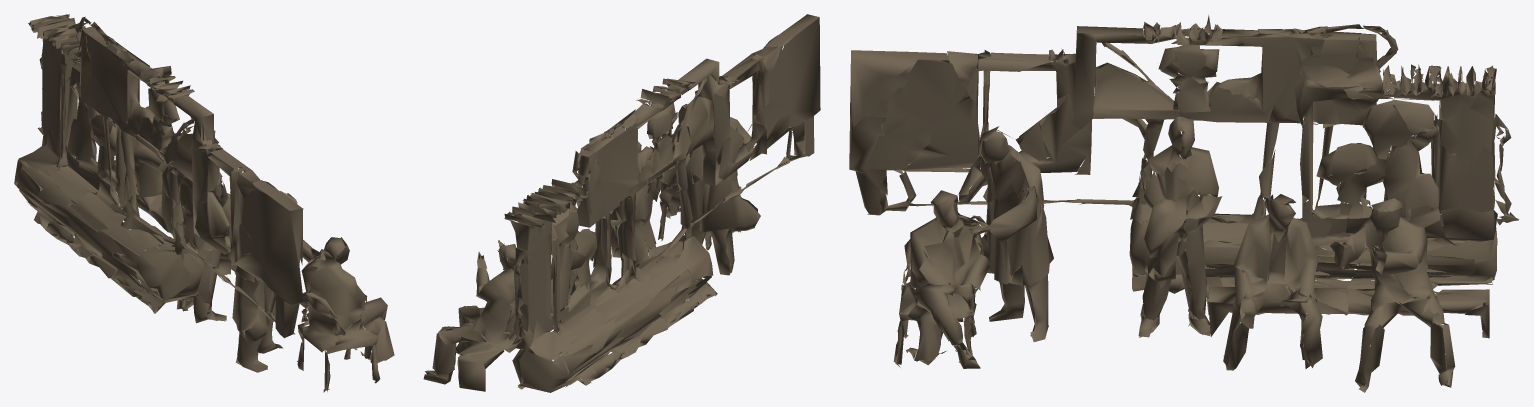
The model's file is space-scientists-h31-far.glb.
3 renders of one model, left to right at view 1: azimuth 30°, elevation 25°; view 2: azimuth 150°, elevation 25°; view 3: azimuth 270°, elevation 25°, orthographic. The views are drawn at different scales.
Parts seen in each view (by area): view 1: tripo_node_0d95727f-535c-4d06-8af6-f8f696757dec; view 2: tripo_node_0d95727f-535c-4d06-8af6-f8f696757dec; view 3: tripo_node_0d95727f-535c-4d06-8af6-f8f696757dec.
Part boxes in pixels (x1=…): tripo_node_0d95727f-535c-4d06-8af6-f8f696757dec: x1=14, y1=14, x2=394, y2=392; tripo_node_0d95727f-535c-4d06-8af6-f8f696757dec: x1=423, y1=14, x2=820, y2=392; tripo_node_0d95727f-535c-4d06-8af6-f8f696757dec: x1=849, y1=15, x2=1518, y2=392.
Size of the model in its own units: 2.1 by 2.86 by 5.95.
